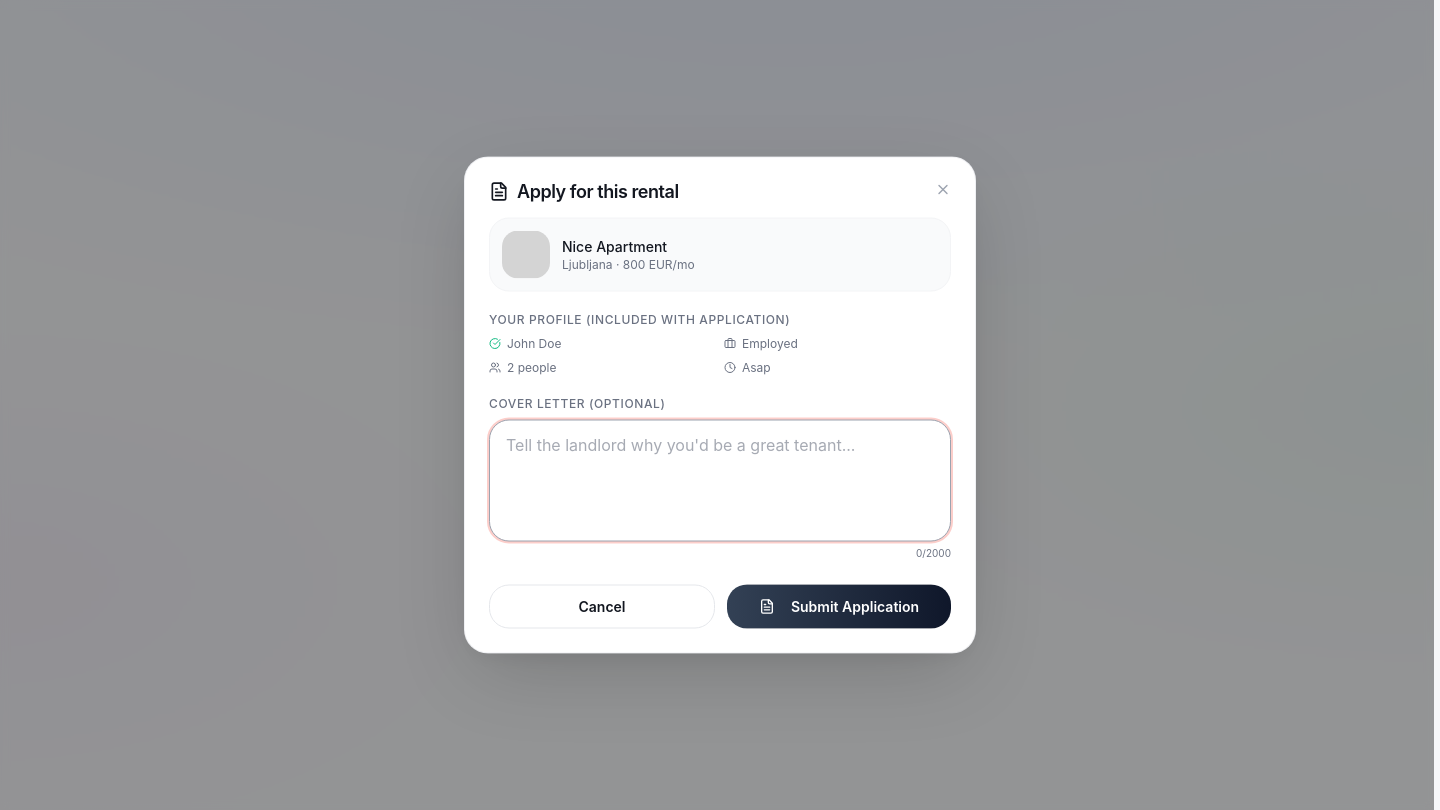
Test: ApplicationForm › shows character count for cover letter
Expected: the text "0/2000" is shown, [916,546,951,558]
Type "Hello" into the text box with placeholder "Tell the landlord why you'd be a great tenant...".
click(720, 480); type("Hello")  # box [489,420,951,542]
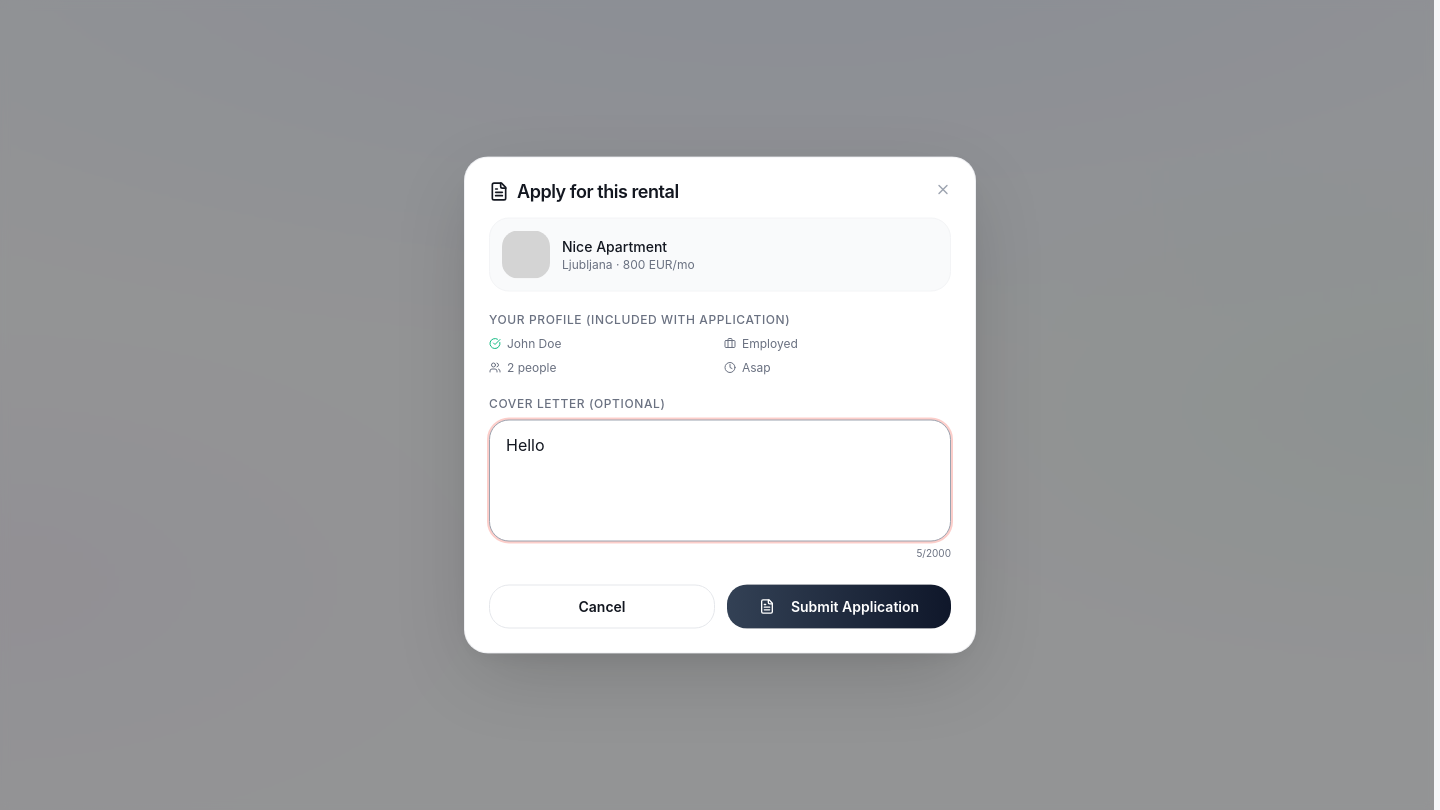
Expected: the text "5/2000" is shown, [916,546,951,558]
